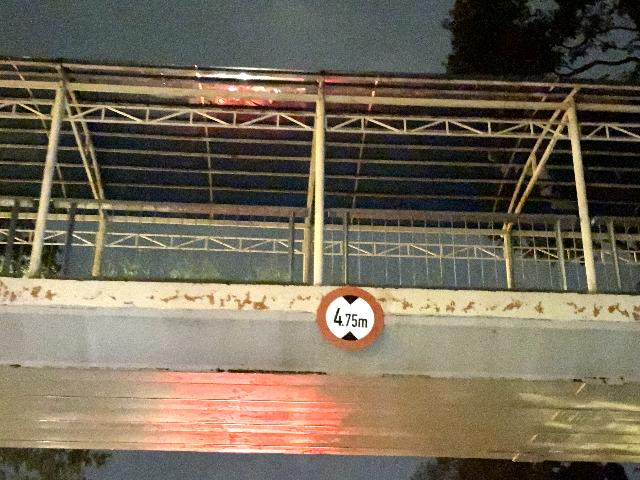han-che-chieu-cao: (317, 286, 383, 351)
